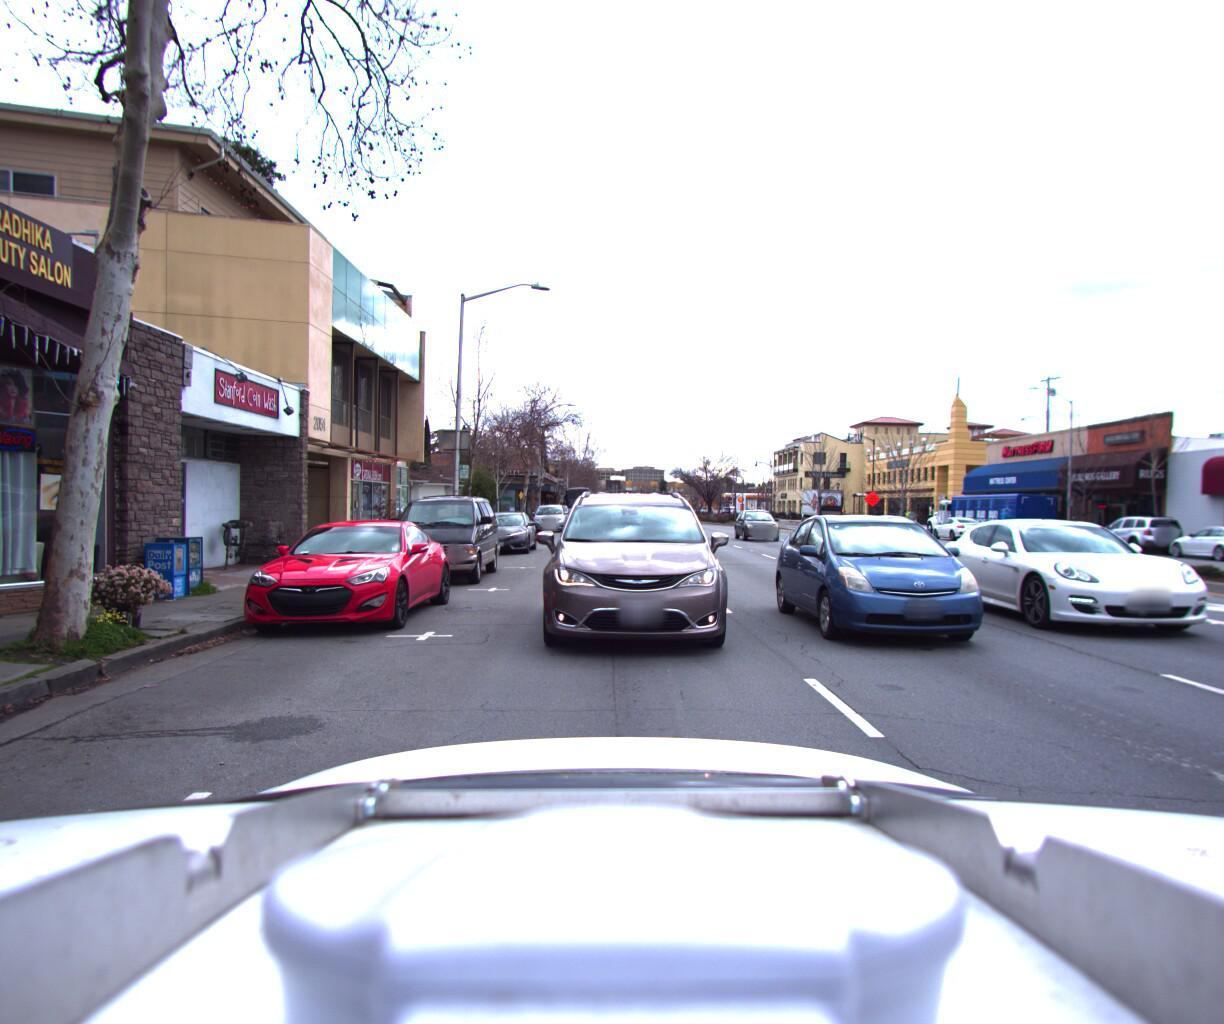bus: (561, 482, 593, 519)
car: (787, 503, 1096, 695), (521, 465, 732, 667), (957, 508, 1224, 665), (227, 502, 467, 641), (378, 477, 511, 586), (1086, 509, 1194, 549), (473, 499, 542, 553), (1163, 516, 1224, 558), (735, 504, 787, 540), (925, 509, 985, 537), (532, 494, 569, 529)
truck: (923, 491, 1061, 539)
